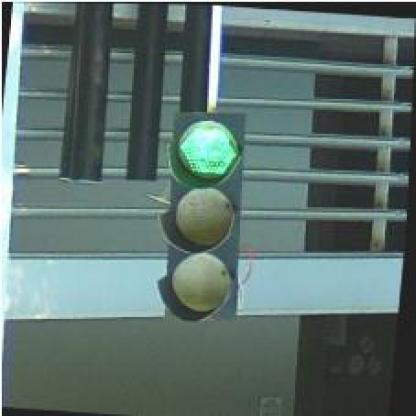green: (155, 107, 256, 322)
